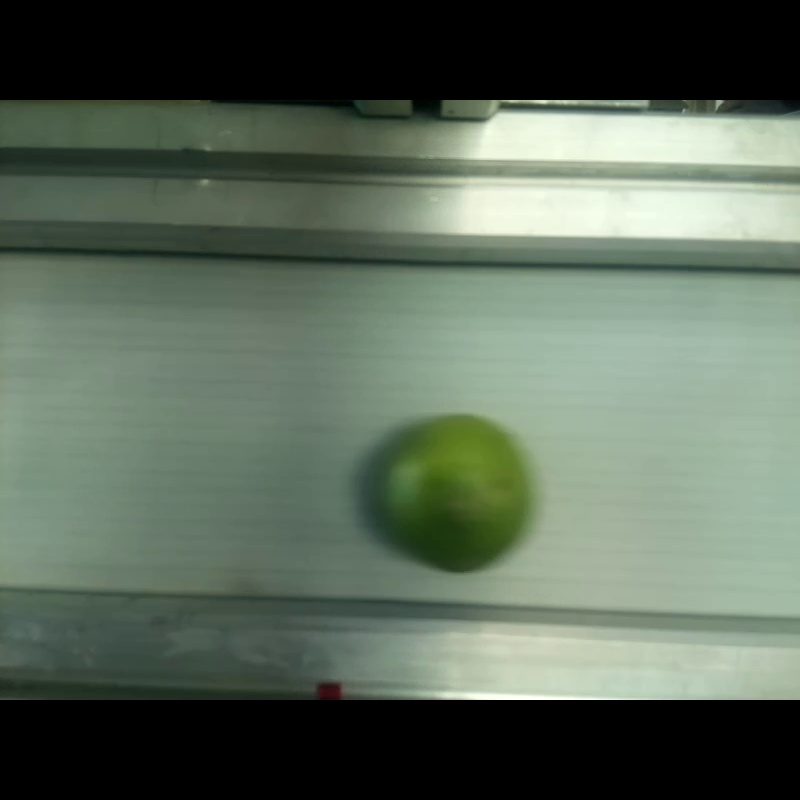lime: (378, 414, 530, 573)
